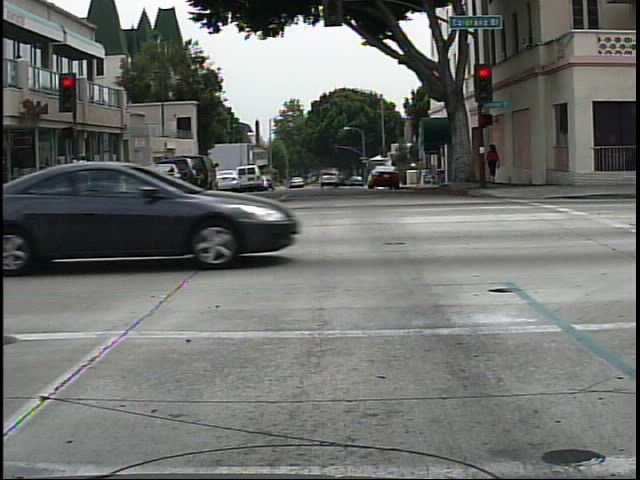person: (70, 147, 99, 209), (486, 138, 505, 192)
